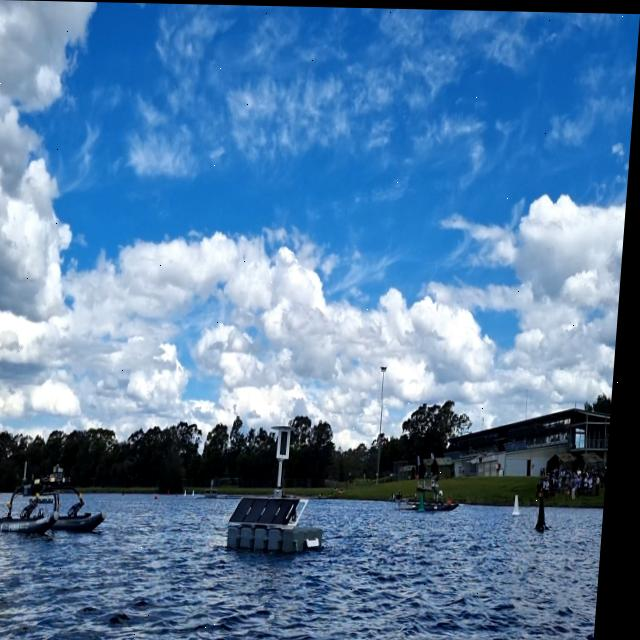led: (285, 427, 296, 456)
